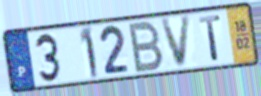1: (78, 26, 101, 80)
2: (98, 23, 133, 77)
3: (34, 32, 61, 85)
B: (127, 19, 166, 75)
T: (197, 13, 223, 63)
V: (159, 14, 193, 71)
